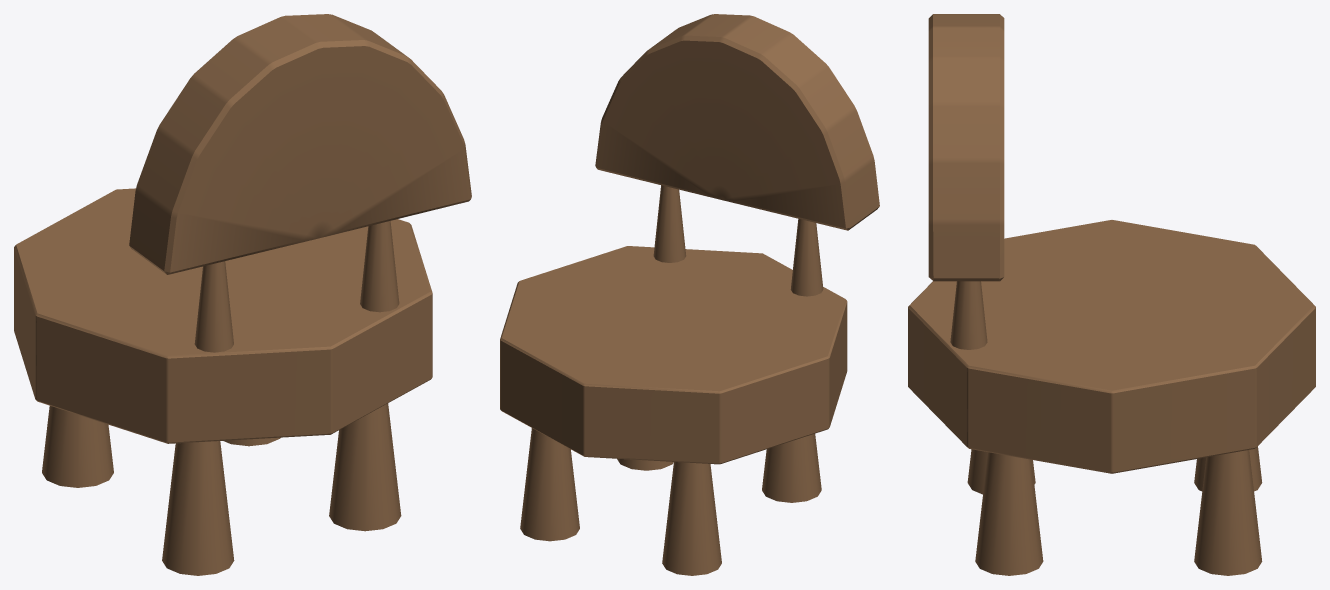
File: Chair1.fbx
The picture shows the model from 3 angles, left to right: view 1: azimuth 30°, elevation 25°; view 2: azimuth 150°, elevation 25°; view 3: azimuth 270°, elevation 25°; orthographic projection. The views are drawn at different scales.
Visible parts, largest first — view 1: Chair3; view 2: Chair3; view 3: Chair3.
Part boxes in pixels (left/top/right/bottom): Chair3: left=14, top=14, right=471, bottom=575; Chair3: left=500, top=14, right=879, bottom=575; Chair3: left=908, top=14, right=1315, bottom=575.
Bounding box in the file's own units: 1.99 × 2.67 × 1.99.
